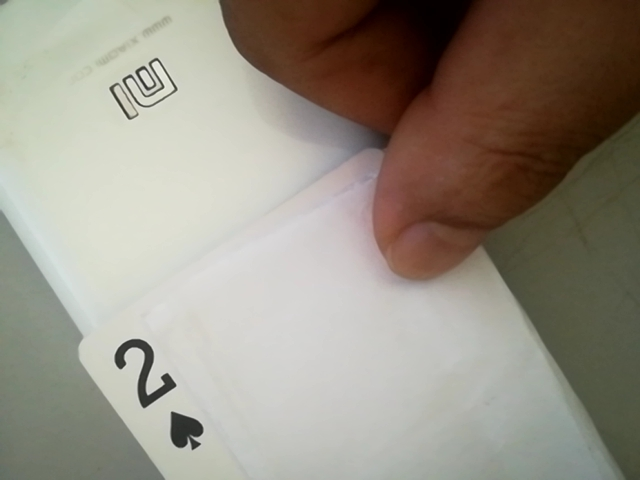ht 2: (100, 324, 220, 464)
